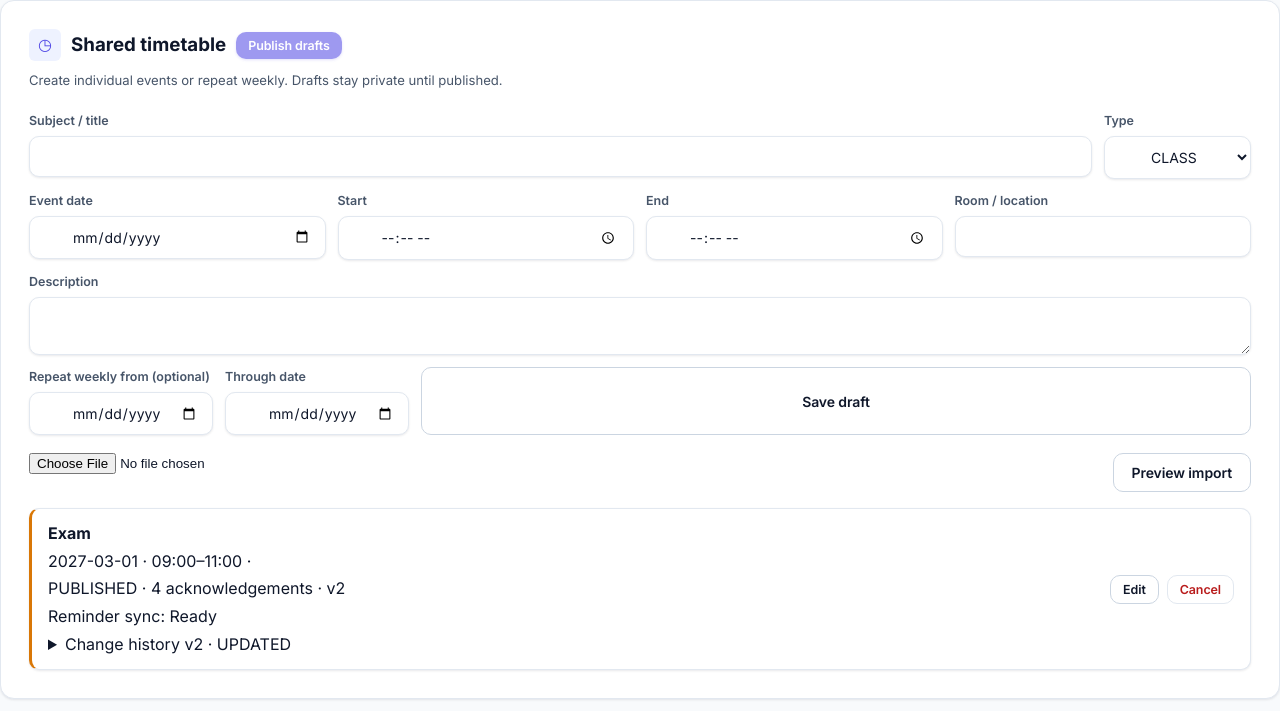
Test: BatchTimetableManagement › renders published acknowledgement counts and change history
This screenshot has width=1280, height=711.
Check: the text "PUBLISHED · 4 acknowledgements · v2" is shown, box top-left (48, 576), bottom-right (345, 602)
Step 1. Click the heading "Change history v2 · UPDATED" → (178,644), box top-left (65, 634), bottom-right (291, 654)
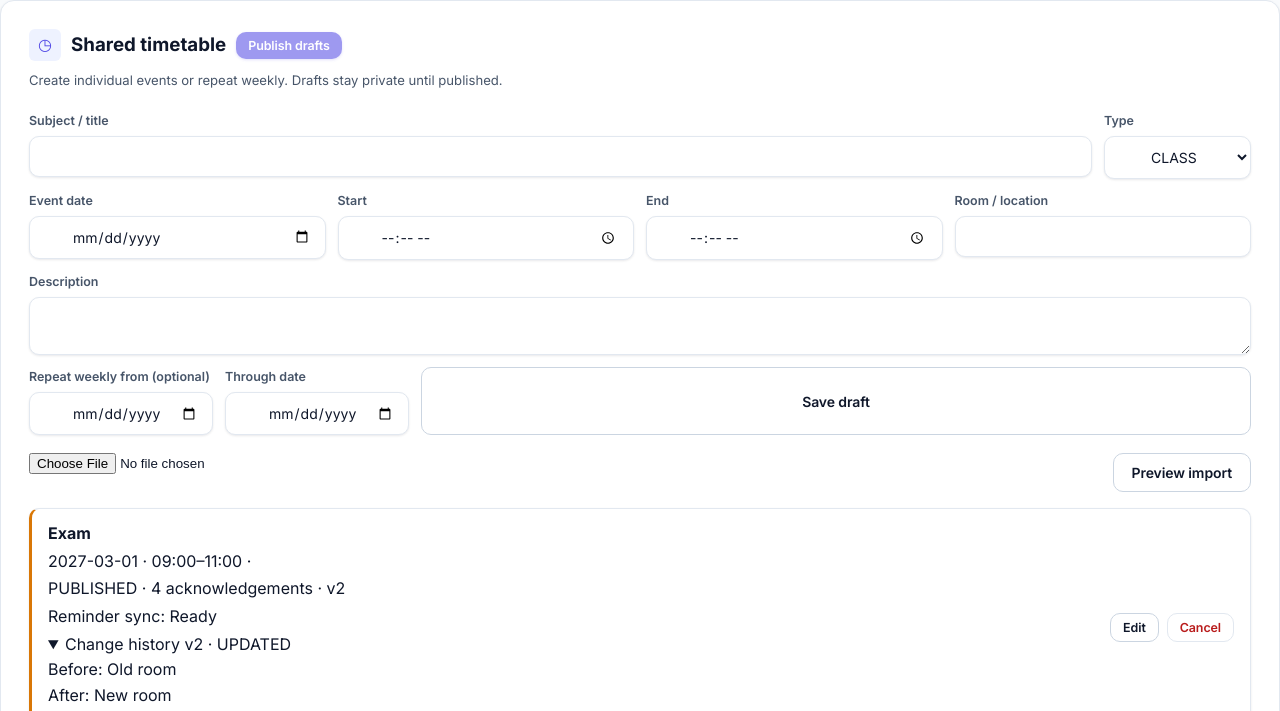
Check: the text "Before: Old room" is shown, box top-left (48, 659), bottom-right (176, 679)
